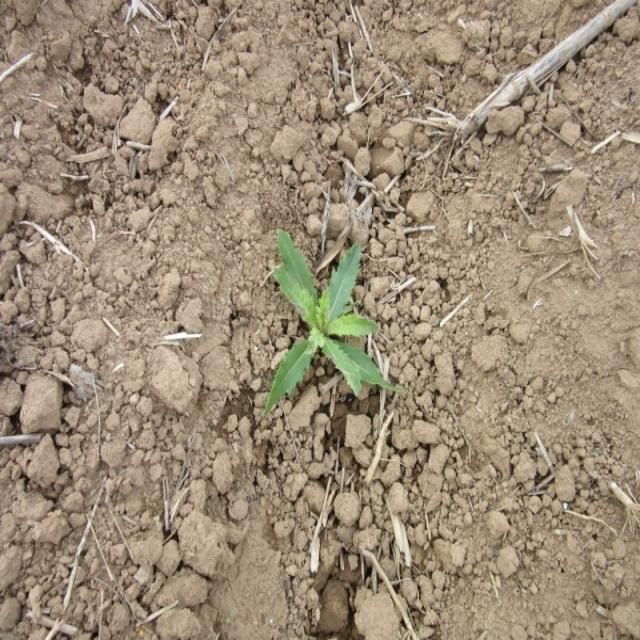cs: (262, 224, 397, 423)
